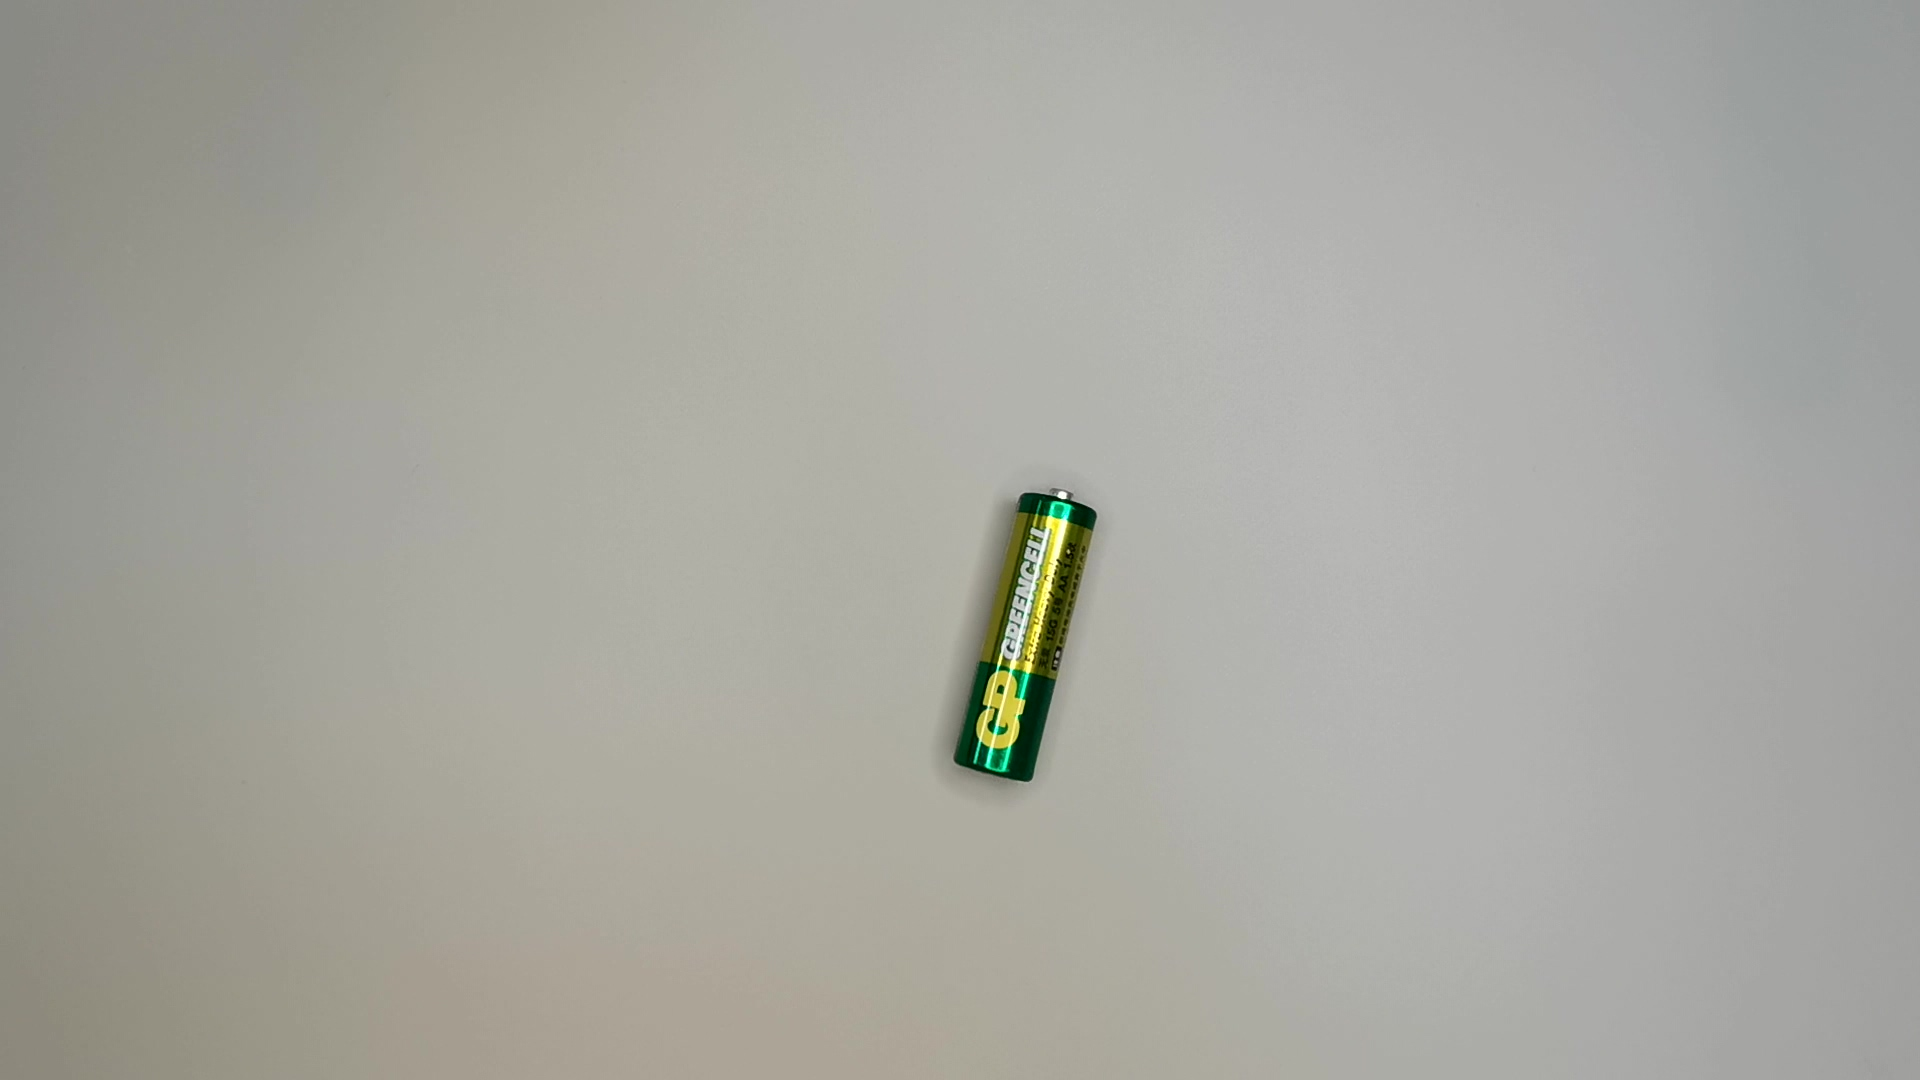battery: (942, 485, 1108, 789)
